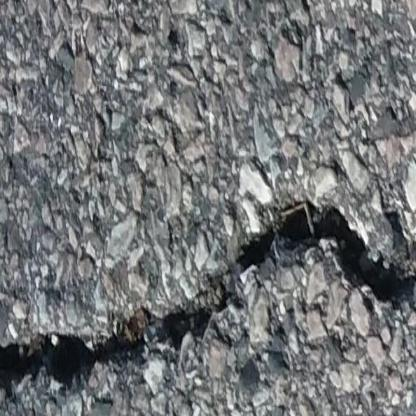Cracks: (0, 188, 416, 404)
